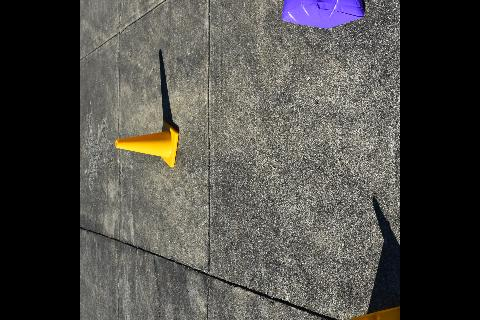cone: (115, 120, 179, 166)
cube: (282, 0, 364, 28)
